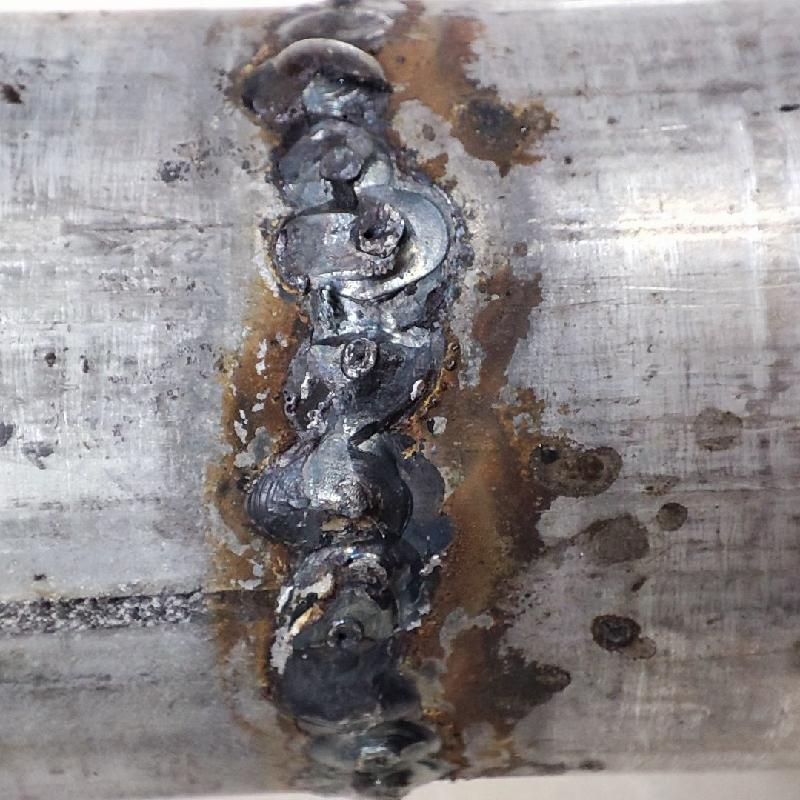Surface_pores: (338, 335, 377, 379), (346, 215, 388, 254), (323, 620, 364, 656)
Weld: (250, 43, 399, 128)
wrong_size: (248, 4, 461, 799)
